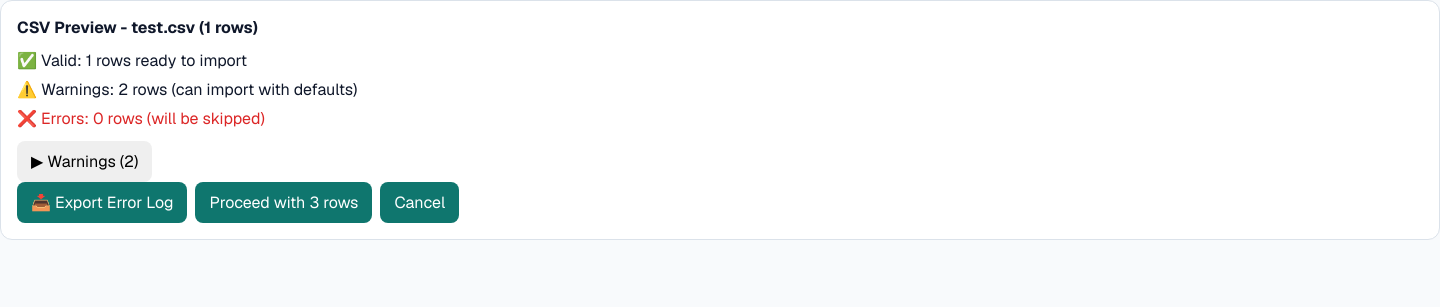
it: CsvPreview (Upload Form) › should display validation warnings
The image size is (1440, 307).
expect the text "⚠️ Warnings: 2 rows (can import with defaults)" is shown: met, box [17, 79, 358, 100]
Click the button "▶ Warnings (2)": (85, 162) [17, 141, 152, 182]
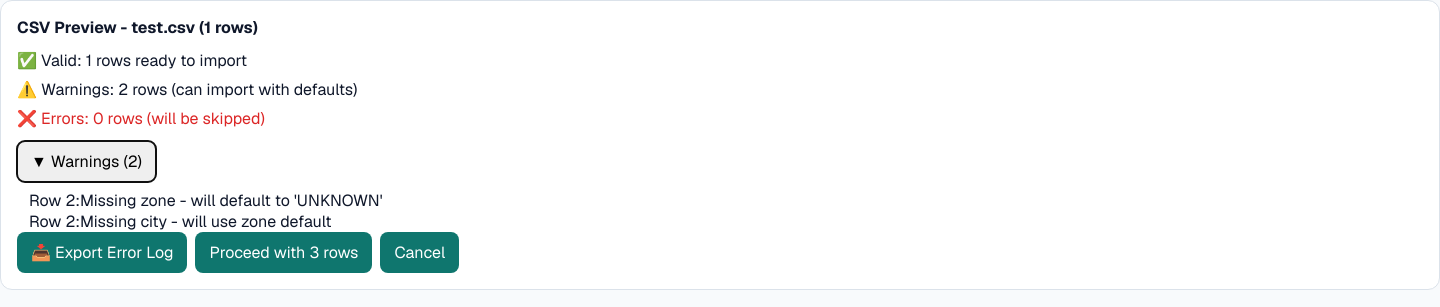
expect the text "Missing zone - will default to 'UNKNOWN'" is shown: met, box [80, 190, 382, 211]
